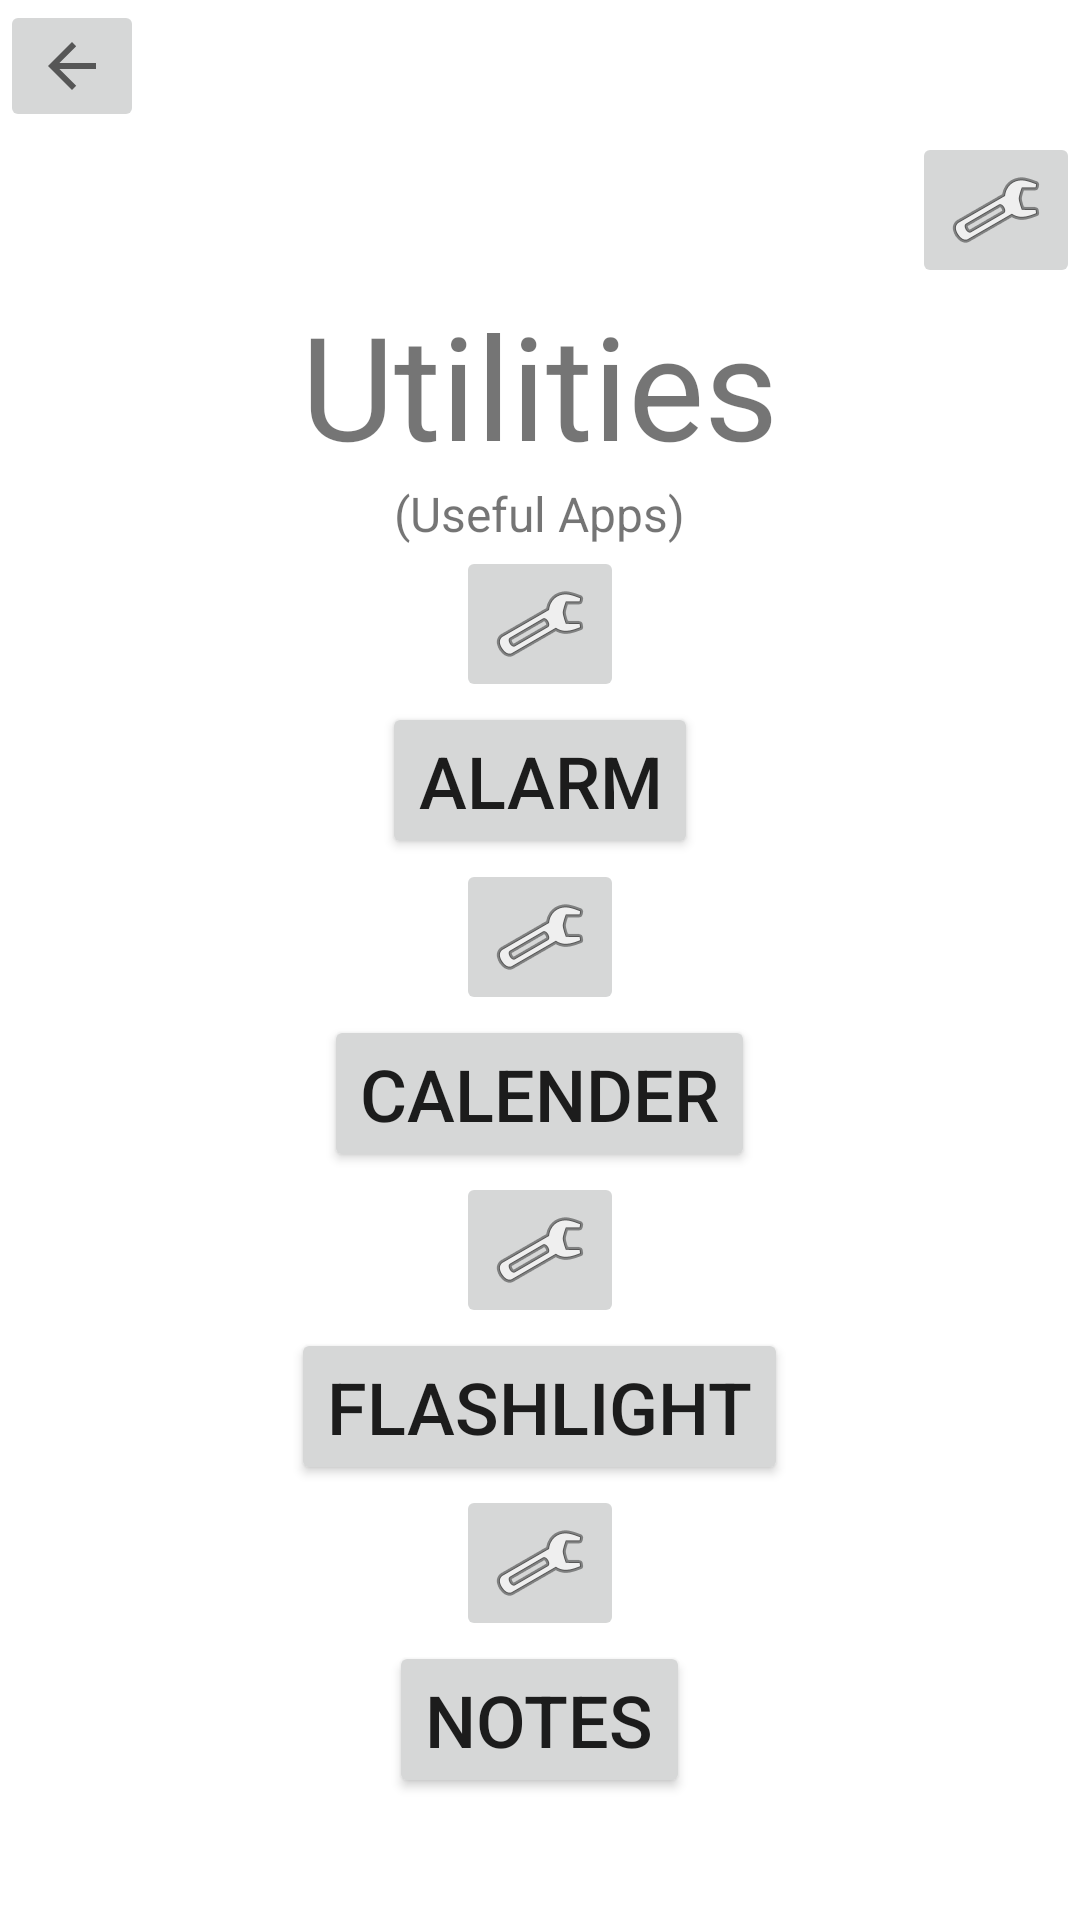

Icons on this 1080px×1920px Android screen, each with the point to tap as (x,y):
Back to home: (72,66)
Go to settings: (996,210)
